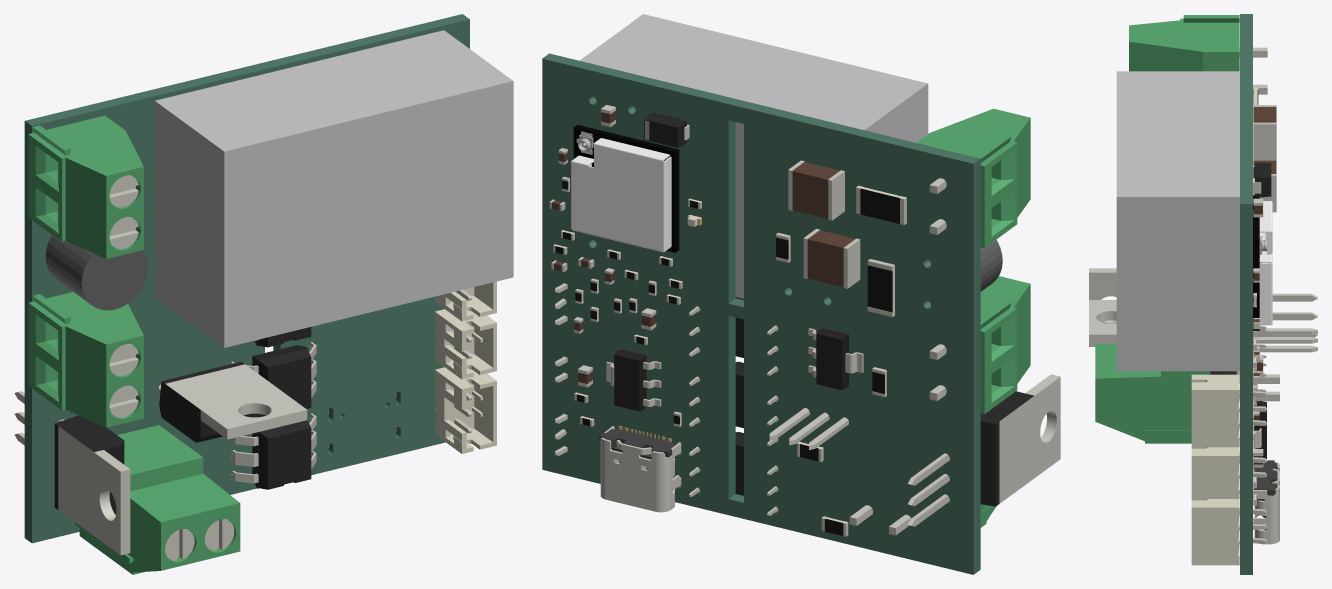
Rendered from board.glb.
3 views of the same model, side by side, from view 1: azimuth 30°, elevation 25°; view 2: azimuth 150°, elevation 25°; view 3: azimuth 270°, elevation 25° (orthographic). The views are drawn at different scales.
Visible parts, largest first — view 1: PS1, =>[0:1:1:36], =>[0:1:1:5]_1_a9cffc, =>[0:1:1:7]_1d1cef, =>[0:1:1:5]_1a94f8, =>[0:1:1:13], =>[0:1:1:13]_1_f8515e, F1, =>[0:1:1:9]_c6be64, =>[0:1:1:11]_c1b746, =>[0:1:1:3]_2_f29d95, =>[0:1:1:3]_4e7711 (+7 smaller); view 2: =>[0:1:1:36], PS1, =>[0:1:1:31]_76ca06, =>[0:1:1:5]_1_a9cffc, =>[0:1:1:13], =>[0:1:1:5]_1a94f8, =>[0:1:1:21]_0f22ac, =>[0:1:1:13]_e358a7, =>[0:1:1:31]_a35bf2, =>[0:1:1:23]_eb3a0c, =>[0:1:1:23]_1_e10e41, =>[0:1:1:29]_1_f72b18 (+9 smaller); view 3: PS1, =>[0:1:1:36], =>[0:1:1:7]_1d1cef, =>[0:1:1:5]_1_a9cffc, =>[0:1:1:9]_1_5970c2, =>[0:1:1:9]_c6be64, =>[0:1:1:11]_c1b746, =>[0:1:1:13]_1_f8515e, =>[0:1:1:13], =>[0:1:1:31]_76ca06, =>[0:1:1:21]_0f22ac, =>[0:1:1:23]_2160f0 (+7 smaller).
Boxes of the visible parts, box(x1,y1,x2,y2) form: PS1: box(154, 30, 513, 347); =>[0:1:1:36]: box(24, 14, 469, 543); =>[0:1:1:5]_1_a9cffc: box(28, 115, 143, 258); =>[0:1:1:7]_1d1cef: box(75, 425, 240, 574); =>[0:1:1:5]_1a94f8: box(28, 292, 143, 427); =>[0:1:1:13]: box(14, 391, 130, 555); =>[0:1:1:13]_1_f8515e: box(158, 364, 307, 439); F1: box(45, 235, 148, 310); =>[0:1:1:9]_c6be64: box(435, 367, 496, 453); =>[0:1:1:11]_c1b746: box(435, 309, 496, 379); =>[0:1:1:3]_2_f29d95: box(252, 419, 311, 489); =>[0:1:1:3]_4e7711: box(252, 345, 311, 408); =>[0:1:1:36]: box(542, 53, 980, 574); PS1: box(579, 14, 928, 298); =>[0:1:1:31]_76ca06: box(571, 138, 671, 252); =>[0:1:1:5]_1_a9cffc: box(916, 108, 1030, 247); =>[0:1:1:13]: box(907, 374, 1060, 526); =>[0:1:1:5]_1a94f8: box(980, 276, 1030, 414); =>[0:1:1:21]_0f22ac: box(600, 426, 681, 512); =>[0:1:1:13]_e358a7: box(980, 391, 1033, 506); =>[0:1:1:31]_a35bf2: box(573, 124, 679, 252); =>[0:1:1:23]_eb3a0c: box(792, 162, 839, 218); =>[0:1:1:23]_1_e10e41: box(807, 230, 854, 287); =>[0:1:1:29]_1_f72b18: box(816, 328, 848, 390); PS1: box(1116, 71, 1239, 371); =>[0:1:1:36]: box(1240, 14, 1252, 574); =>[0:1:1:7]_1d1cef: box(1095, 344, 1210, 443); =>[0:1:1:5]_1_a9cffc: box(1129, 15, 1239, 71); =>[0:1:1:9]_1_5970c2: box(1191, 374, 1239, 447); =>[0:1:1:9]_c6be64: box(1191, 499, 1239, 565); =>[0:1:1:11]_c1b746: box(1191, 447, 1239, 498); =>[0:1:1:13]_1_f8515e: box(1089, 300, 1317, 352); =>[0:1:1:13]: box(1089, 268, 1317, 346); =>[0:1:1:31]_76ca06: box(1259, 201, 1272, 325); =>[0:1:1:21]_0f22ac: box(1253, 462, 1279, 544); =>[0:1:1:23]_2160f0: box(1253, 105, 1276, 160).
Bounding box in the file's own units: 56.48 × 51.48 × 28.52.
